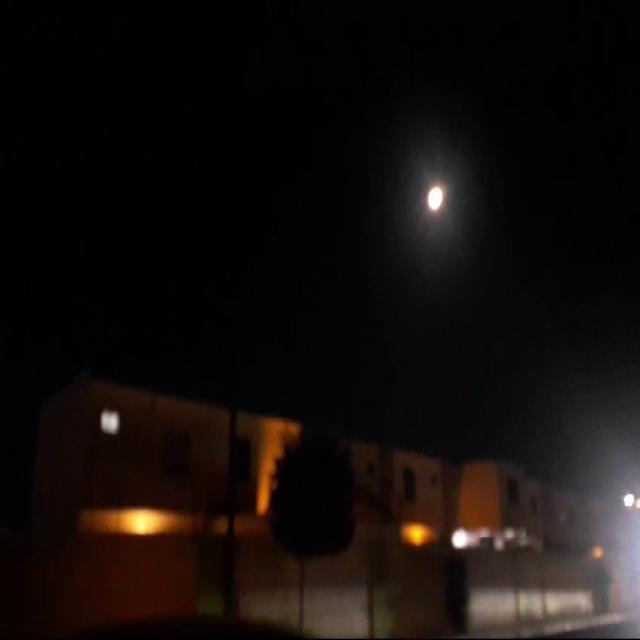moon: (441, 176, 460, 210)
